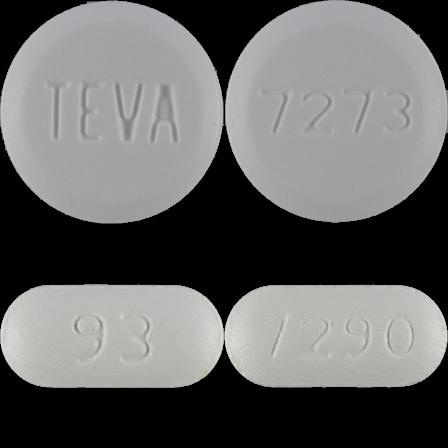0093-7273: (0, 0, 224, 224)
